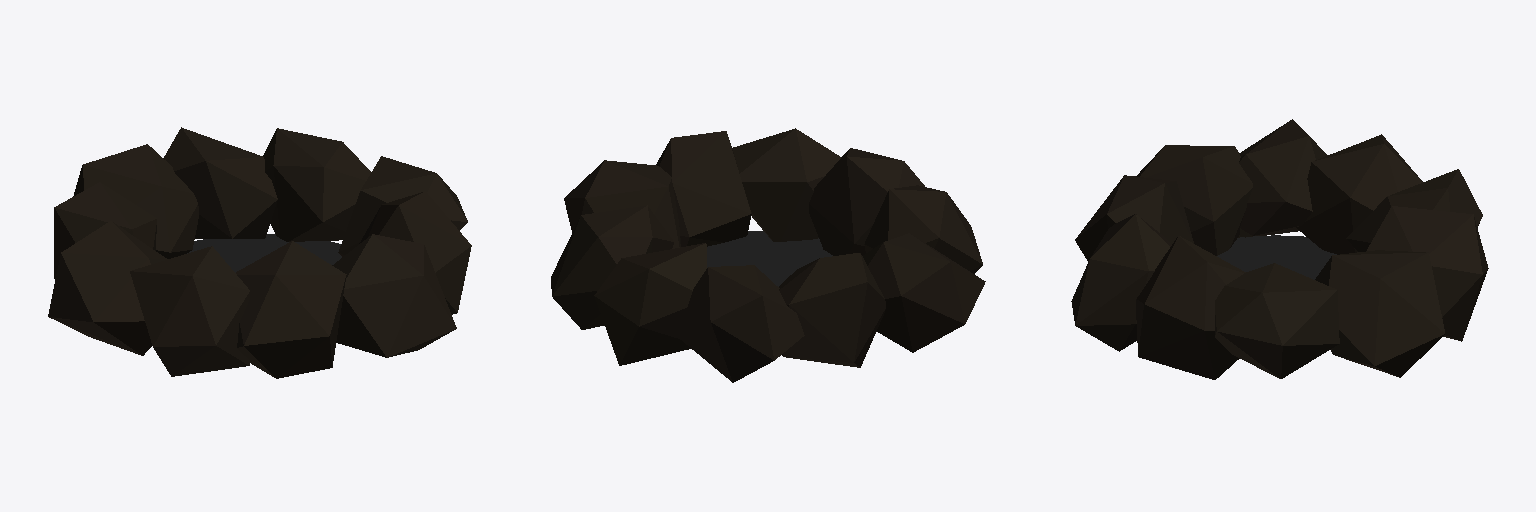
Rendered from fireplace_empty.obj.
3 views of the same model, side by side, from view 1: azimuth 30°, elevation 25°; view 2: azimuth 150°, elevation 25°; view 3: azimuth 270°, elevation 25° (orthographic).
Parts seen in each view (by area): view 1: Stone.006_Icosphere.005, Stone.007_Icosphere.006, Stone.010_Icosphere.009, Stone.004_Icosphere.003, Stone.002_Icosphere.001, Stone.003_Icosphere.002, Stone.009_Icosphere.008, Stone.001_Icosphere, Stone.005_Icosphere.004, Stone.008_Icosphere.007, Ash_Circle; view 2: Stone.009_Icosphere.008, Stone.003_Icosphere.002, Stone.004_Icosphere.003, Stone.008_Icosphere.007, Stone.010_Icosphere.009, Stone.001_Icosphere, Stone.002_Icosphere.001, Stone.006_Icosphere.005, Stone.007_Icosphere.006, Stone.005_Icosphere.004, Ash_Circle; view 3: Stone.002_Icosphere.001, Stone.005_Icosphere.004, Stone.001_Icosphere, Stone.008_Icosphere.007, Stone.010_Icosphere.009, Stone.003_Icosphere.002, Stone.007_Icosphere.006, Stone.004_Icosphere.003, Stone.006_Icosphere.005, Stone.009_Icosphere.008, Ash_Circle.
Boxes of the visible parts, x1,y1,x2,y2 form: Stone.006_Icosphere.005: [236, 241, 346, 378]; Stone.007_Icosphere.006: [130, 246, 249, 376]; Stone.010_Icosphere.009: [332, 234, 456, 357]; Stone.004_Icosphere.003: [48, 221, 167, 355]; Stone.002_Icosphere.001: [263, 128, 370, 241]; Stone.003_Icosphere.002: [163, 127, 277, 238]; Stone.009_Icosphere.008: [73, 144, 198, 258]; Stone.001_Icosphere: [359, 191, 471, 314]; Stone.005_Icosphere.004: [338, 156, 467, 257]; Stone.008_Icosphere.007: [54, 182, 156, 278]; Ash_Circle: [187, 234, 341, 272]; Stone.009_Icosphere.008: [673, 265, 804, 382]; Stone.003_Icosphere.002: [594, 243, 706, 365]; Stone.004_Icosphere.003: [863, 233, 985, 352]; Stone.008_Icosphere.007: [779, 253, 885, 367]; Stone.010_Icosphere.009: [732, 128, 840, 241]; Stone.001_Icosphere: [656, 131, 751, 246]; Stone.002_Icosphere.001: [551, 205, 673, 329]; Stone.006_Icosphere.005: [809, 148, 924, 255]; Stone.007_Icosphere.006: [864, 185, 982, 274]; Stone.005_Icosphere.004: [564, 160, 680, 248]; Ash_Circle: [707, 231, 832, 286]; Stone.002_Icosphere.001: [1315, 250, 1444, 377]; Stone.005_Icosphere.004: [1215, 263, 1339, 378]; Stone.001_Icosphere: [1136, 236, 1245, 379]; Stone.008_Icosphere.007: [1296, 134, 1422, 254]; Stone.010_Icosphere.009: [1071, 214, 1171, 351]; Stone.003_Icosphere.002: [1367, 206, 1488, 341]; Stone.007_Icosphere.006: [1136, 145, 1252, 255]; Stone.004_Icosphere.003: [1238, 119, 1327, 237]; Stone.006_Icosphere.005: [1075, 175, 1193, 261]; Stone.009_Icosphere.008: [1346, 169, 1482, 251]; Ash_Circle: [1217, 235, 1336, 279].
Size of the model in its own units: 5.99 by 1.85 by 5.34.